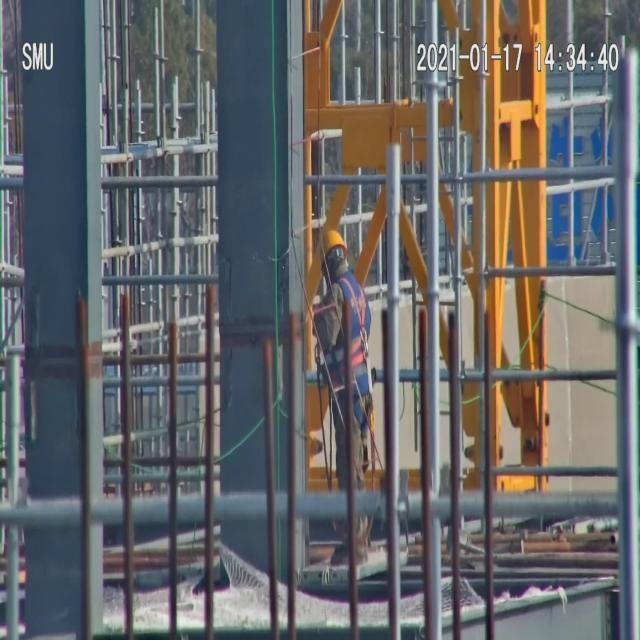Arnes_seguridad: (322, 269, 373, 387)
